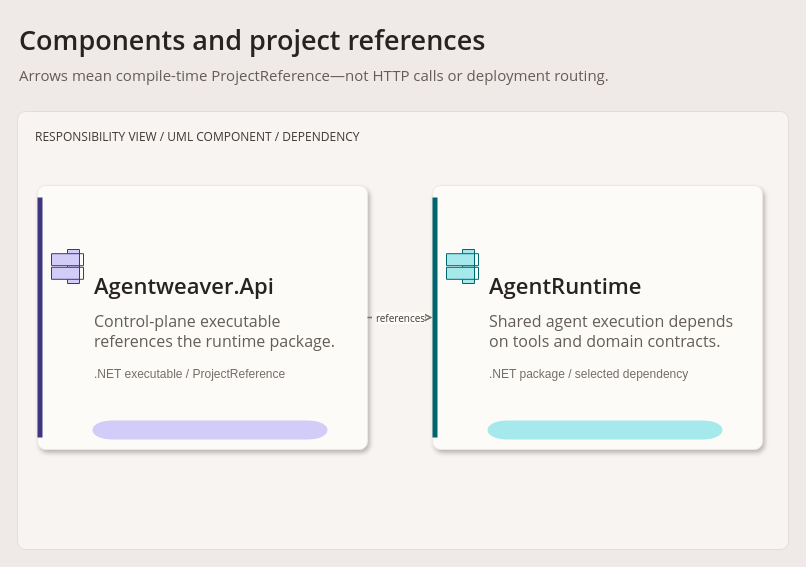
Some shapes in this 806 by 567 pixel diagram are drawn without their labels. The centre of each missing label's shape, as x and y in pixels:
"EXECUTABLE" belongs at (209,429).
"PACKAGE" belongs at (604,429).
